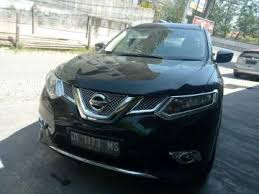plate: (68, 127, 120, 158)
